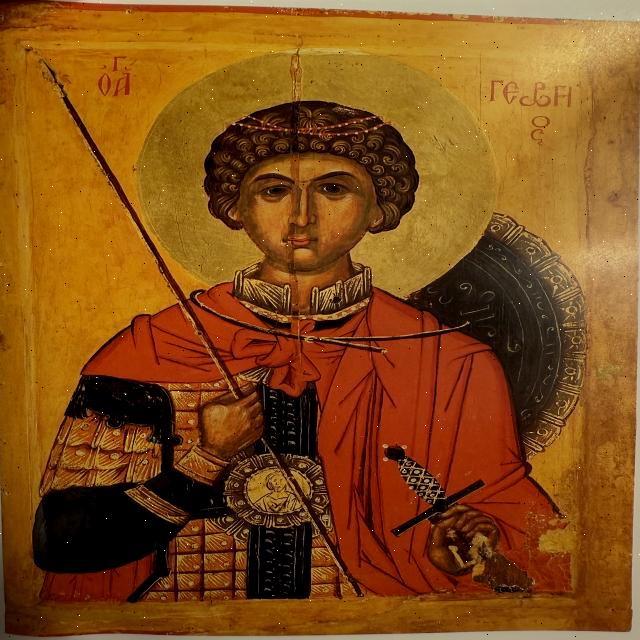aura: (136, 47, 502, 302)
shield: (411, 224, 593, 461)
spear: (27, 52, 369, 584)
st_george: (24, 30, 590, 594)
sword: (366, 442, 559, 599)
